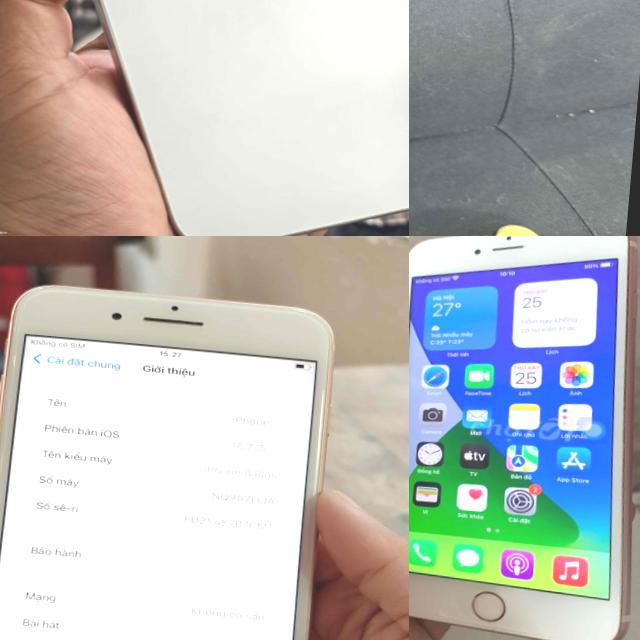gen_15: (0, 0, 409, 236)
gen_6: (409, 236, 640, 640)
gen_7_8: (0, 274, 347, 640)
